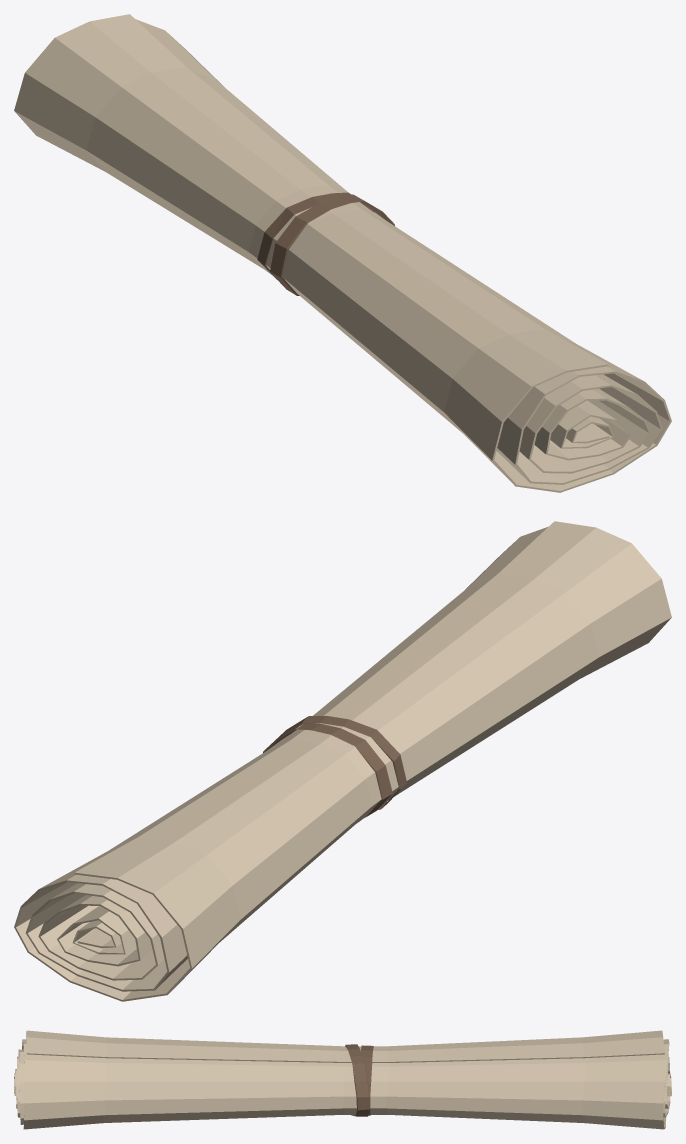
Rendered from Scroll_3.fbx.
3 renders of one model, top to bottom at view 1: azimuth 30°, elevation 25°; view 2: azimuth 150°, elevation 25°; view 3: azimuth 270°, elevation 25°, orthographic. The views are drawn at different scales.
Visible parts, largest first — view 1: Scroll_3; view 2: Scroll_3; view 3: Scroll_3.
Part boxes in pixels (x1=…): Scroll_3: x1=14, y1=14, x2=671, y2=492; Scroll_3: x1=14, y1=521, x2=671, y2=1001; Scroll_3: x1=14, y1=1030, x2=671, y2=1129.
Bounding box in the file's own units: 8.65 × 41.46 × 5.55.
